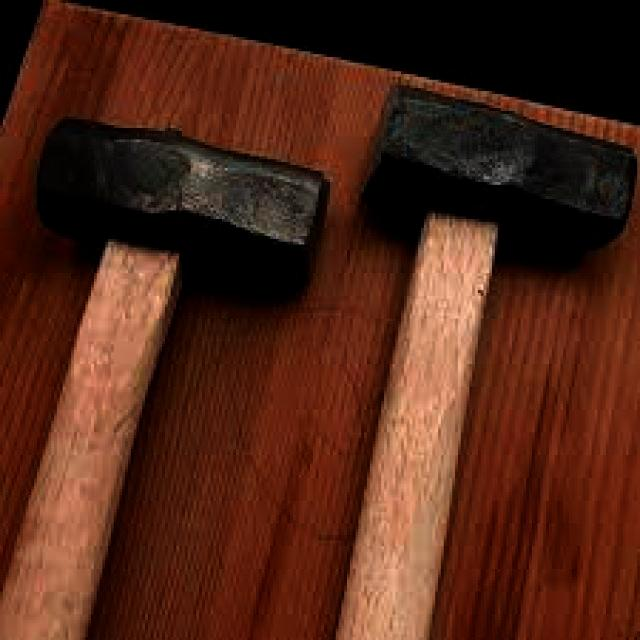hammer: (338, 54, 640, 640), (10, 111, 340, 640)
